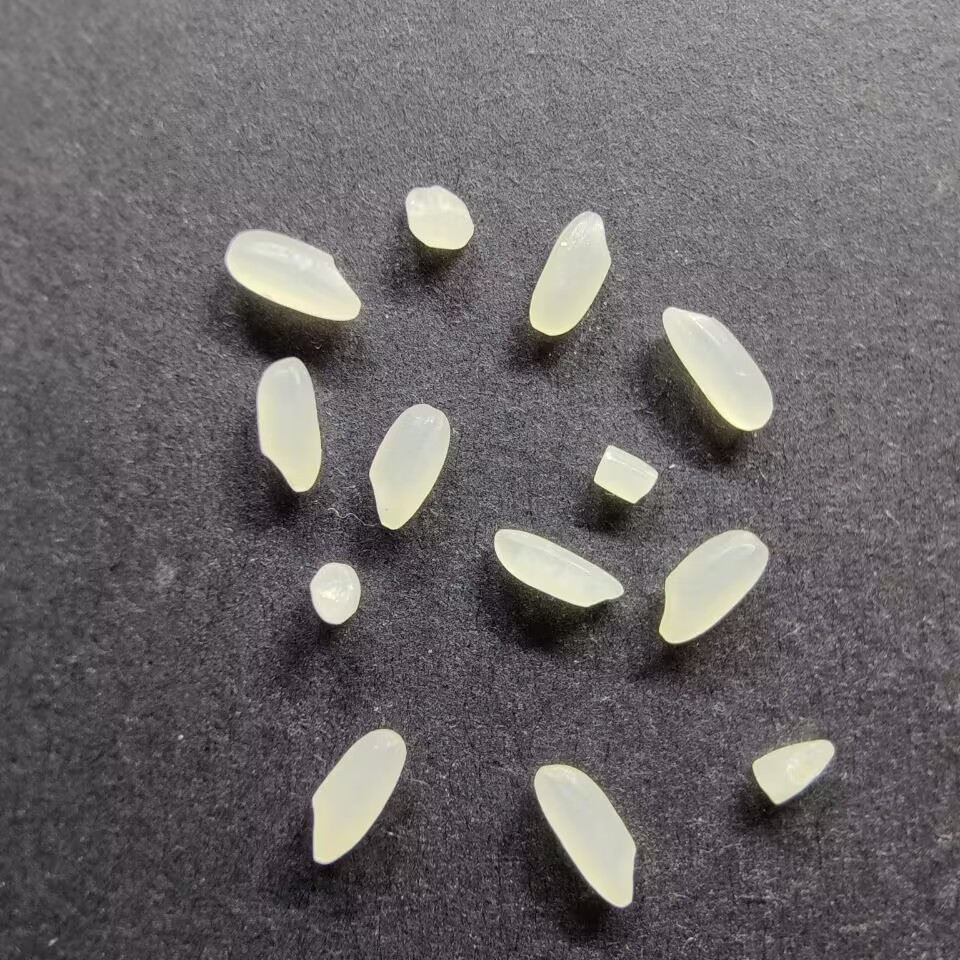broken: (750, 738, 839, 807), (404, 179, 477, 252), (589, 441, 666, 504), (308, 557, 366, 626)
rice: (531, 762, 641, 911), (661, 302, 777, 433), (656, 528, 773, 648), (307, 728, 408, 865), (222, 228, 364, 323), (525, 208, 614, 338), (366, 400, 454, 530), (491, 528, 627, 608), (253, 354, 324, 494)
